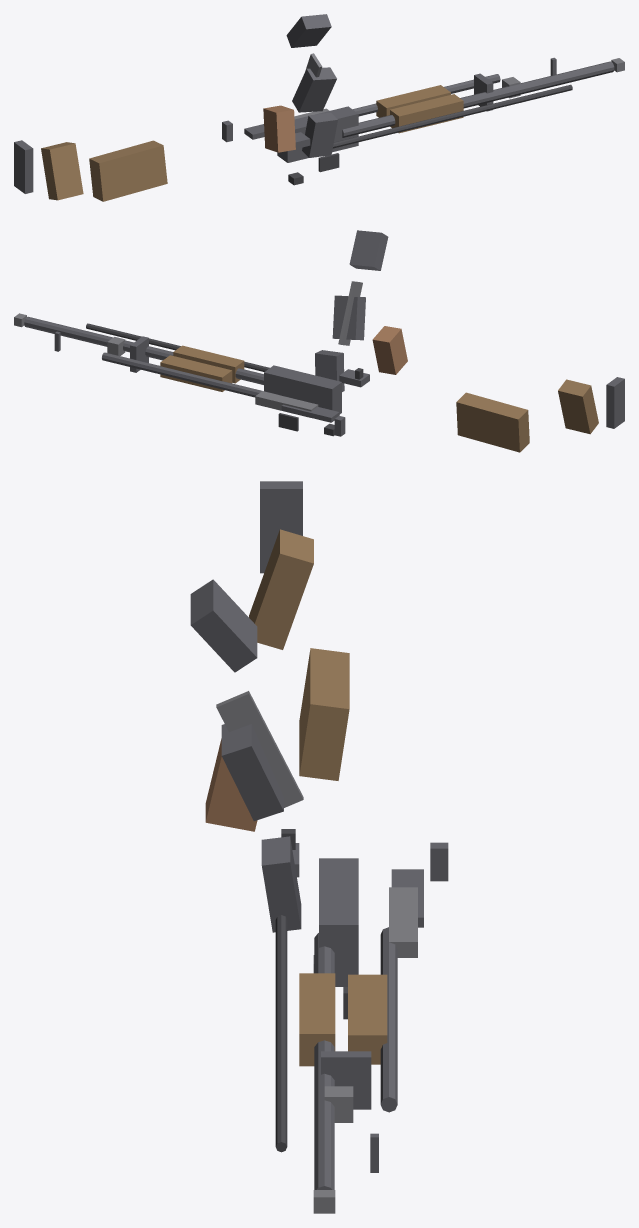
Rendered from scorpio-blaster.gltf.
The picture shows the model from 3 angles, top to bottom: view 1: azimuth 30°, elevation 25°; view 2: azimuth 150°, elevation 25°; view 3: azimuth 270°, elevation 25°; orthographic projection. The views are drawn at different scales.
Parts seen in each view (by area): view 1: scorpio-ak47; view 2: scorpio-ak47; view 3: scorpio-ak47.
Part boxes in pixels (x1=…): scorpio-ak47: x1=14, y1=14, x2=624, y2=201; scorpio-ak47: x1=14, y1=230, x2=624, y2=452; scorpio-ak47: x1=190, y1=481, x2=448, y2=1213.
Size of the model in its own units: 0.9525 by 0.2864 by 0.1795.
